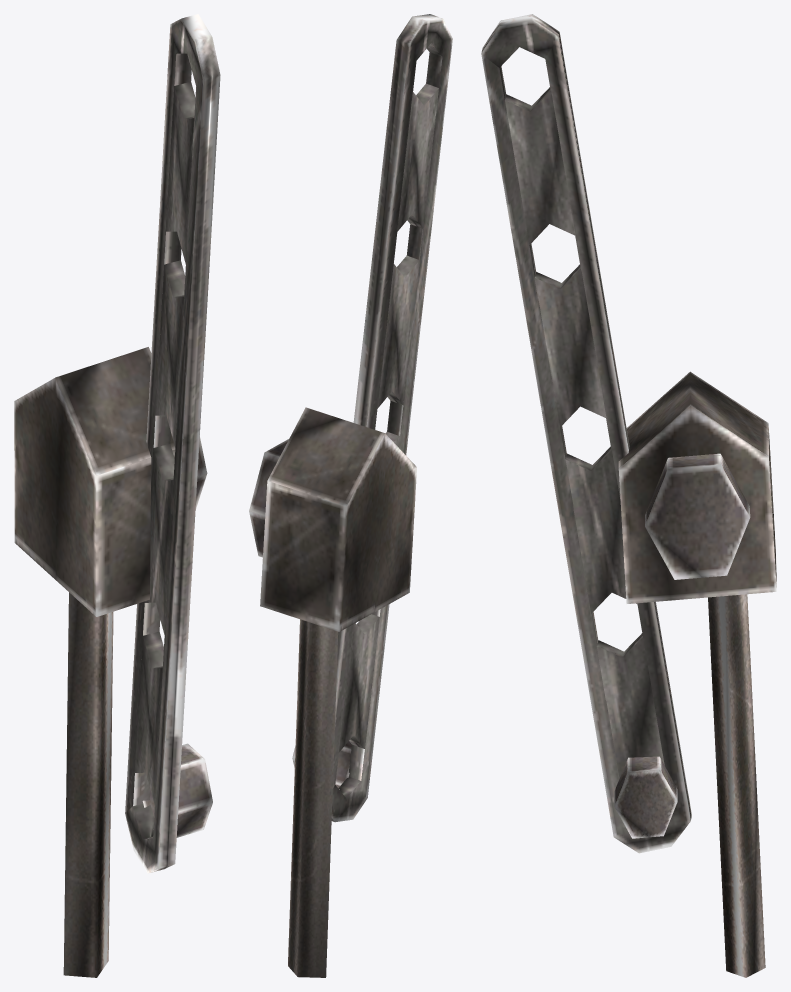
Rendered from Robot01.LeftKnee1.fbx.
3 renders of one model, left to right at view 1: azimuth 30°, elevation 25°; view 2: azimuth 150°, elevation 25°; view 3: azimuth 270°, elevation 25°, orthographic. The views are drawn at different scales.
Visible parts, largest first — view 1: Robot01.LeftKnee1; view 2: Robot01.LeftKnee1; view 3: Robot01.LeftKnee1.
Boxes of the visible parts, <box> form: Robot01.LeftKnee1: <box>14,14,220,977</box>; Robot01.LeftKnee1: <box>249,14,452,977</box>; Robot01.LeftKnee1: <box>481,14,776,977</box>.
Bounding box in the file's own units: 12.38 × 95.69 × 27.01.
